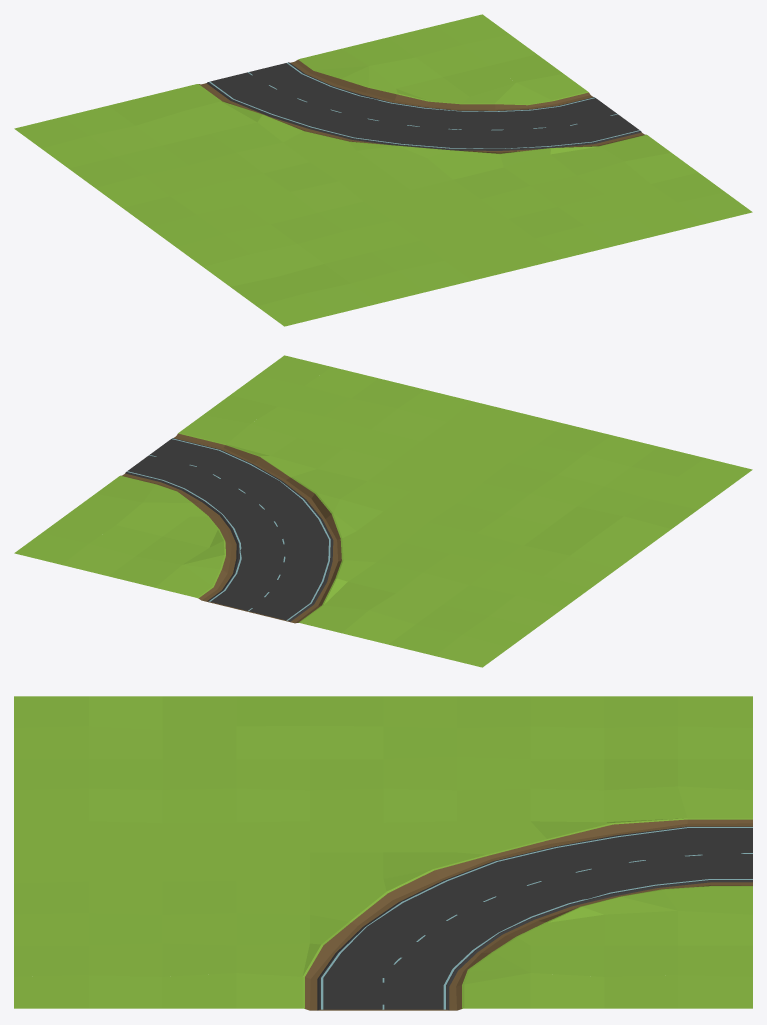
File: model_road_grass_cornor_1.fbx
3 views of the same model, one above another, from view 1: azimuth 30°, elevation 25°; view 2: azimuth 150°, elevation 25°; view 3: azimuth 270°, elevation 25° (orthographic). The views are drawn at different scales.
Visible parts, largest first — view 1: model_road_grass_cornor_1; view 2: model_road_grass_cornor_1; view 3: model_road_grass_cornor_1.
Boxes of the visible parts, <box> form: model_road_grass_cornor_1: <box>14,14,752,326</box>; model_road_grass_cornor_1: <box>14,355,752,667</box>; model_road_grass_cornor_1: <box>14,696,752,1010</box>.
Bounding box in the file's own units: 6162 × 62.78 × 6162.
1 material, 1 textured.
